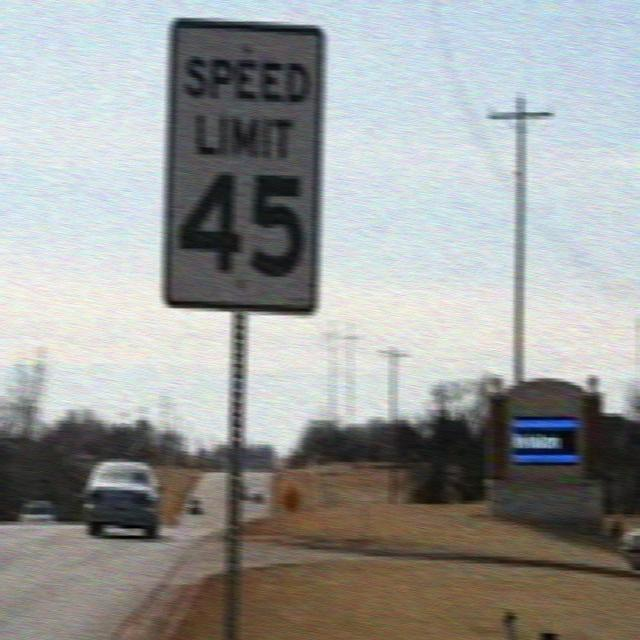speedLimit45: (163, 14, 321, 308)
